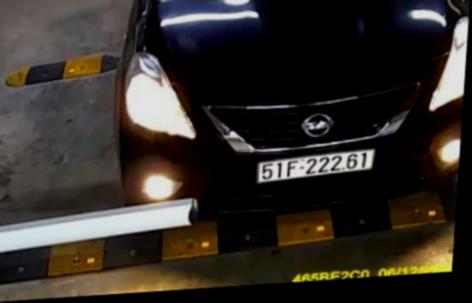License_Plate: (253, 141, 376, 190)
